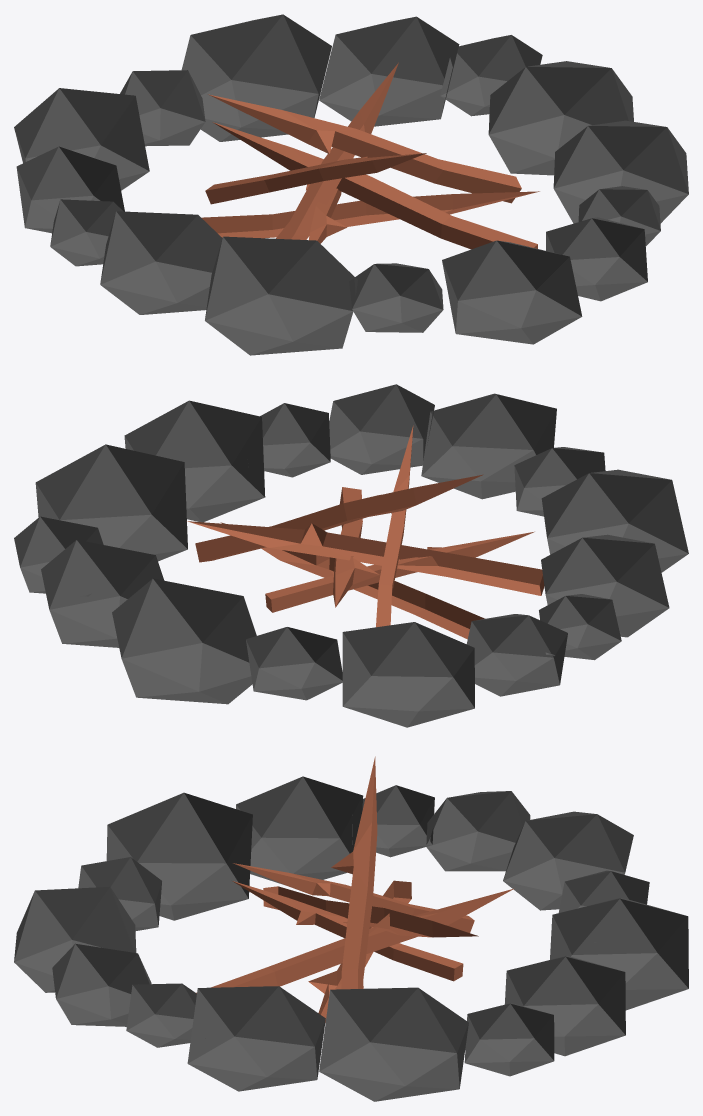
The model's file is Campfire_Cylinder_009.glb.
3 views of the same model, one above another, from view 1: azimuth 30°, elevation 25°; view 2: azimuth 150°, elevation 25°; view 3: azimuth 270°, elevation 25° (orthographic). The views are drawn at different scales.
Visible parts, largest first — view 1: Campfire_Cylinder.009; view 2: Campfire_Cylinder.009; view 3: Campfire_Cylinder.009.
Boxes of the visible parts, x1,y1,x2,y2 form: Campfire_Cylinder.009: [14, 14, 688, 355]; Campfire_Cylinder.009: [14, 384, 688, 727]; Campfire_Cylinder.009: [14, 756, 688, 1101].
Bounding box in the file's own units: 1.25 × 0.3526 × 1.33.
